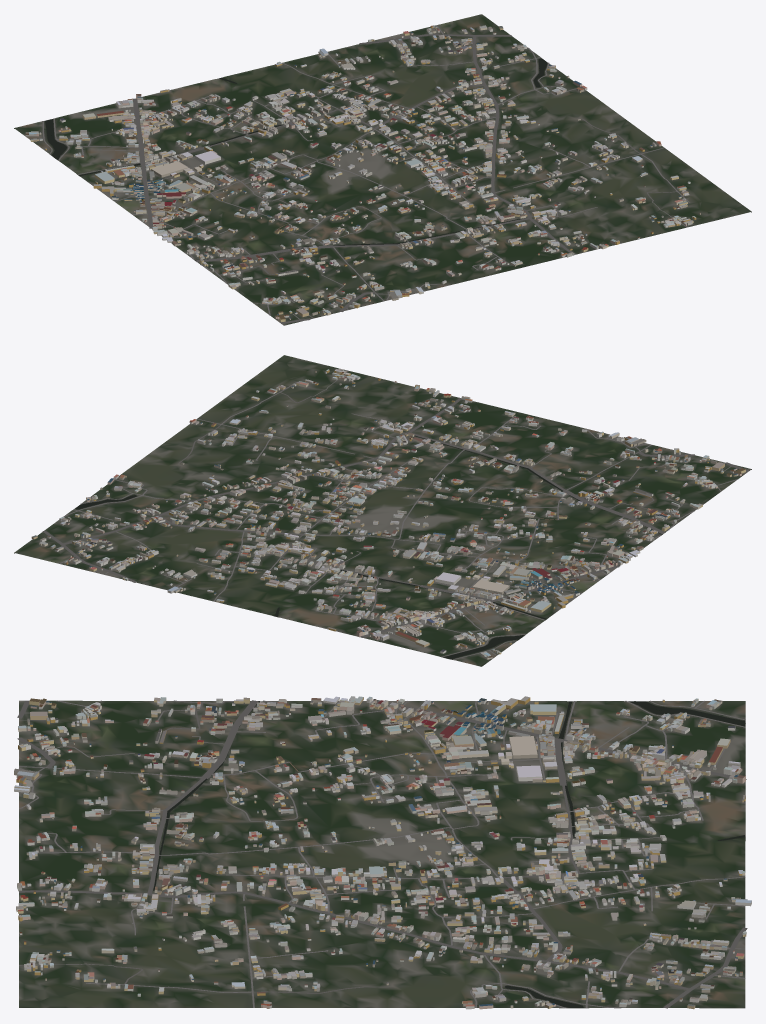
3 views of the same model, one above another, from view 1: azimuth 30°, elevation 25°; view 2: azimuth 150°, elevation 25°; view 3: azimuth 270°, elevation 25° (orthographic). The views are drawn at different scales.
Parts seen in each view (by area): view 1: ground, buildings, roads, water; view 2: ground, buildings, roads, water; view 3: ground, buildings, roads, water.
Boxes of the visible parts, x1,y1,x2,y2 form: ground: (14,14,751,325); buildings: (25,25,700,321); roads: (29,25,689,323); water: (45,58,547,260); ground: (14,355,751,666); buildings: (31,368,745,659); roads: (42,370,749,659); water: (75,435,662,659); ground: (19,700,745,1008); buildings: (14,696,751,1009); roads: (17,700,747,1008); water: (153,701,745,1007).
Size of the model in its own units: 1416 by 15.68 by 1423.
